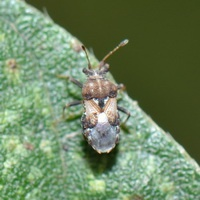insect: (58, 39, 129, 153)
